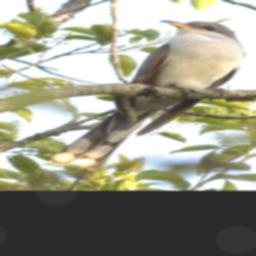Cuckoo: (50, 20, 246, 168)
